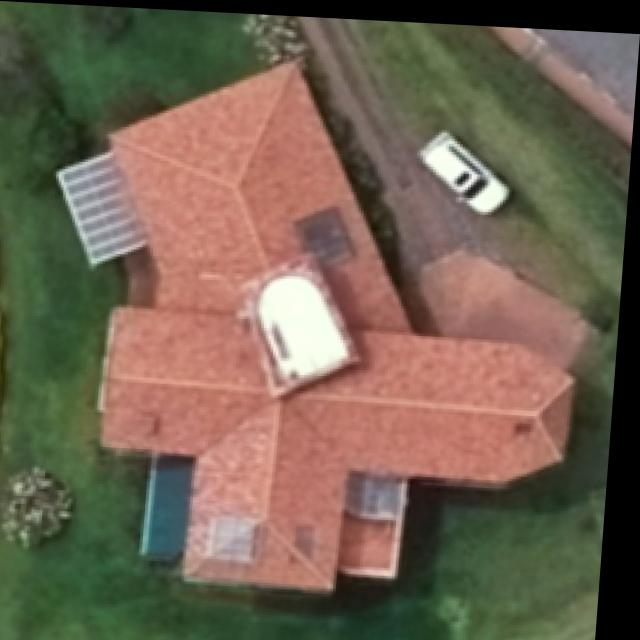Batiment: (86, 58, 574, 586)
